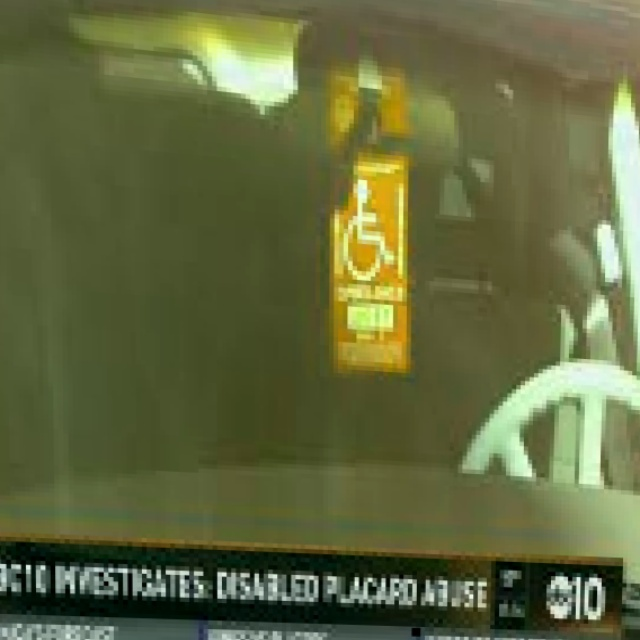ISA: (340, 178, 396, 280)
